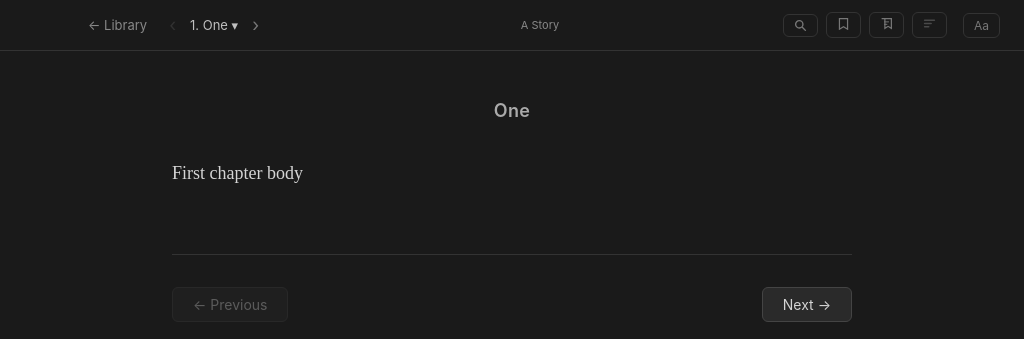
Test case: HtmlReader — chapter navigation › advances to the next chapter and debounce-saves the new progress
Check: the text "First chapter body" is shown, box [172, 163, 303, 183]
Click the button "Next →".
click(807, 304)  # box [762, 287, 852, 322]
Wait 1000 ms
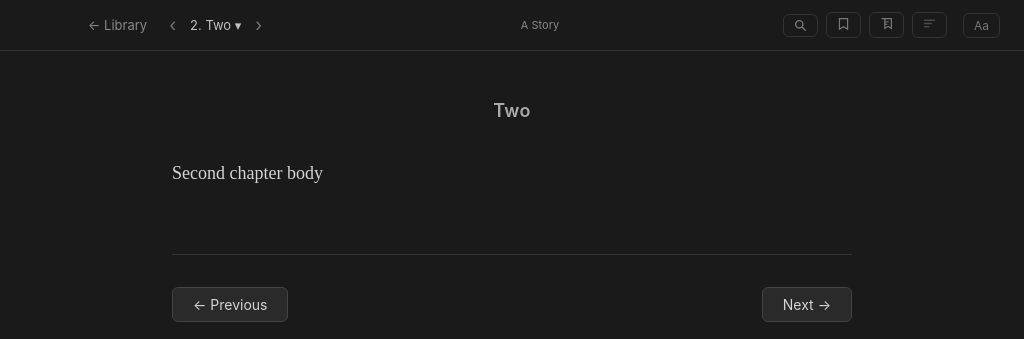
Check: the text "Second chapter body" is shown, box [172, 163, 323, 183]
